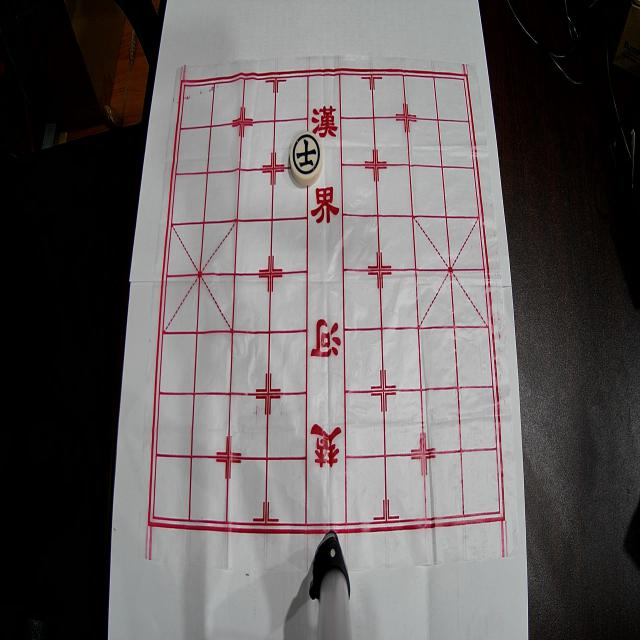black-guard: (290, 132, 323, 186)
